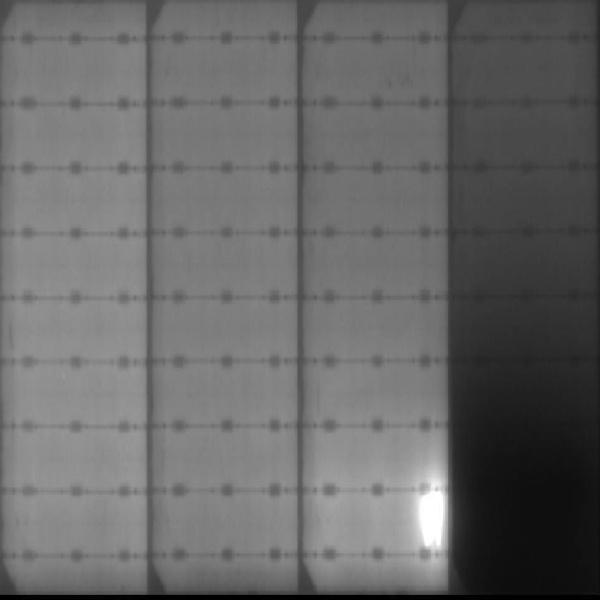hot_spot: (417, 492, 445, 549)
no_electricity: (451, 294, 599, 595)
